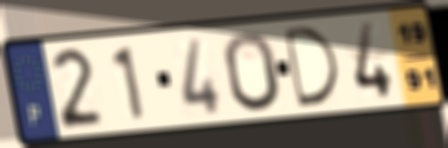1: (110, 43, 147, 123)
2: (48, 45, 109, 133)
4: (179, 35, 224, 118), (352, 20, 395, 102)
D: (280, 24, 343, 110)
O: (220, 29, 284, 114)
